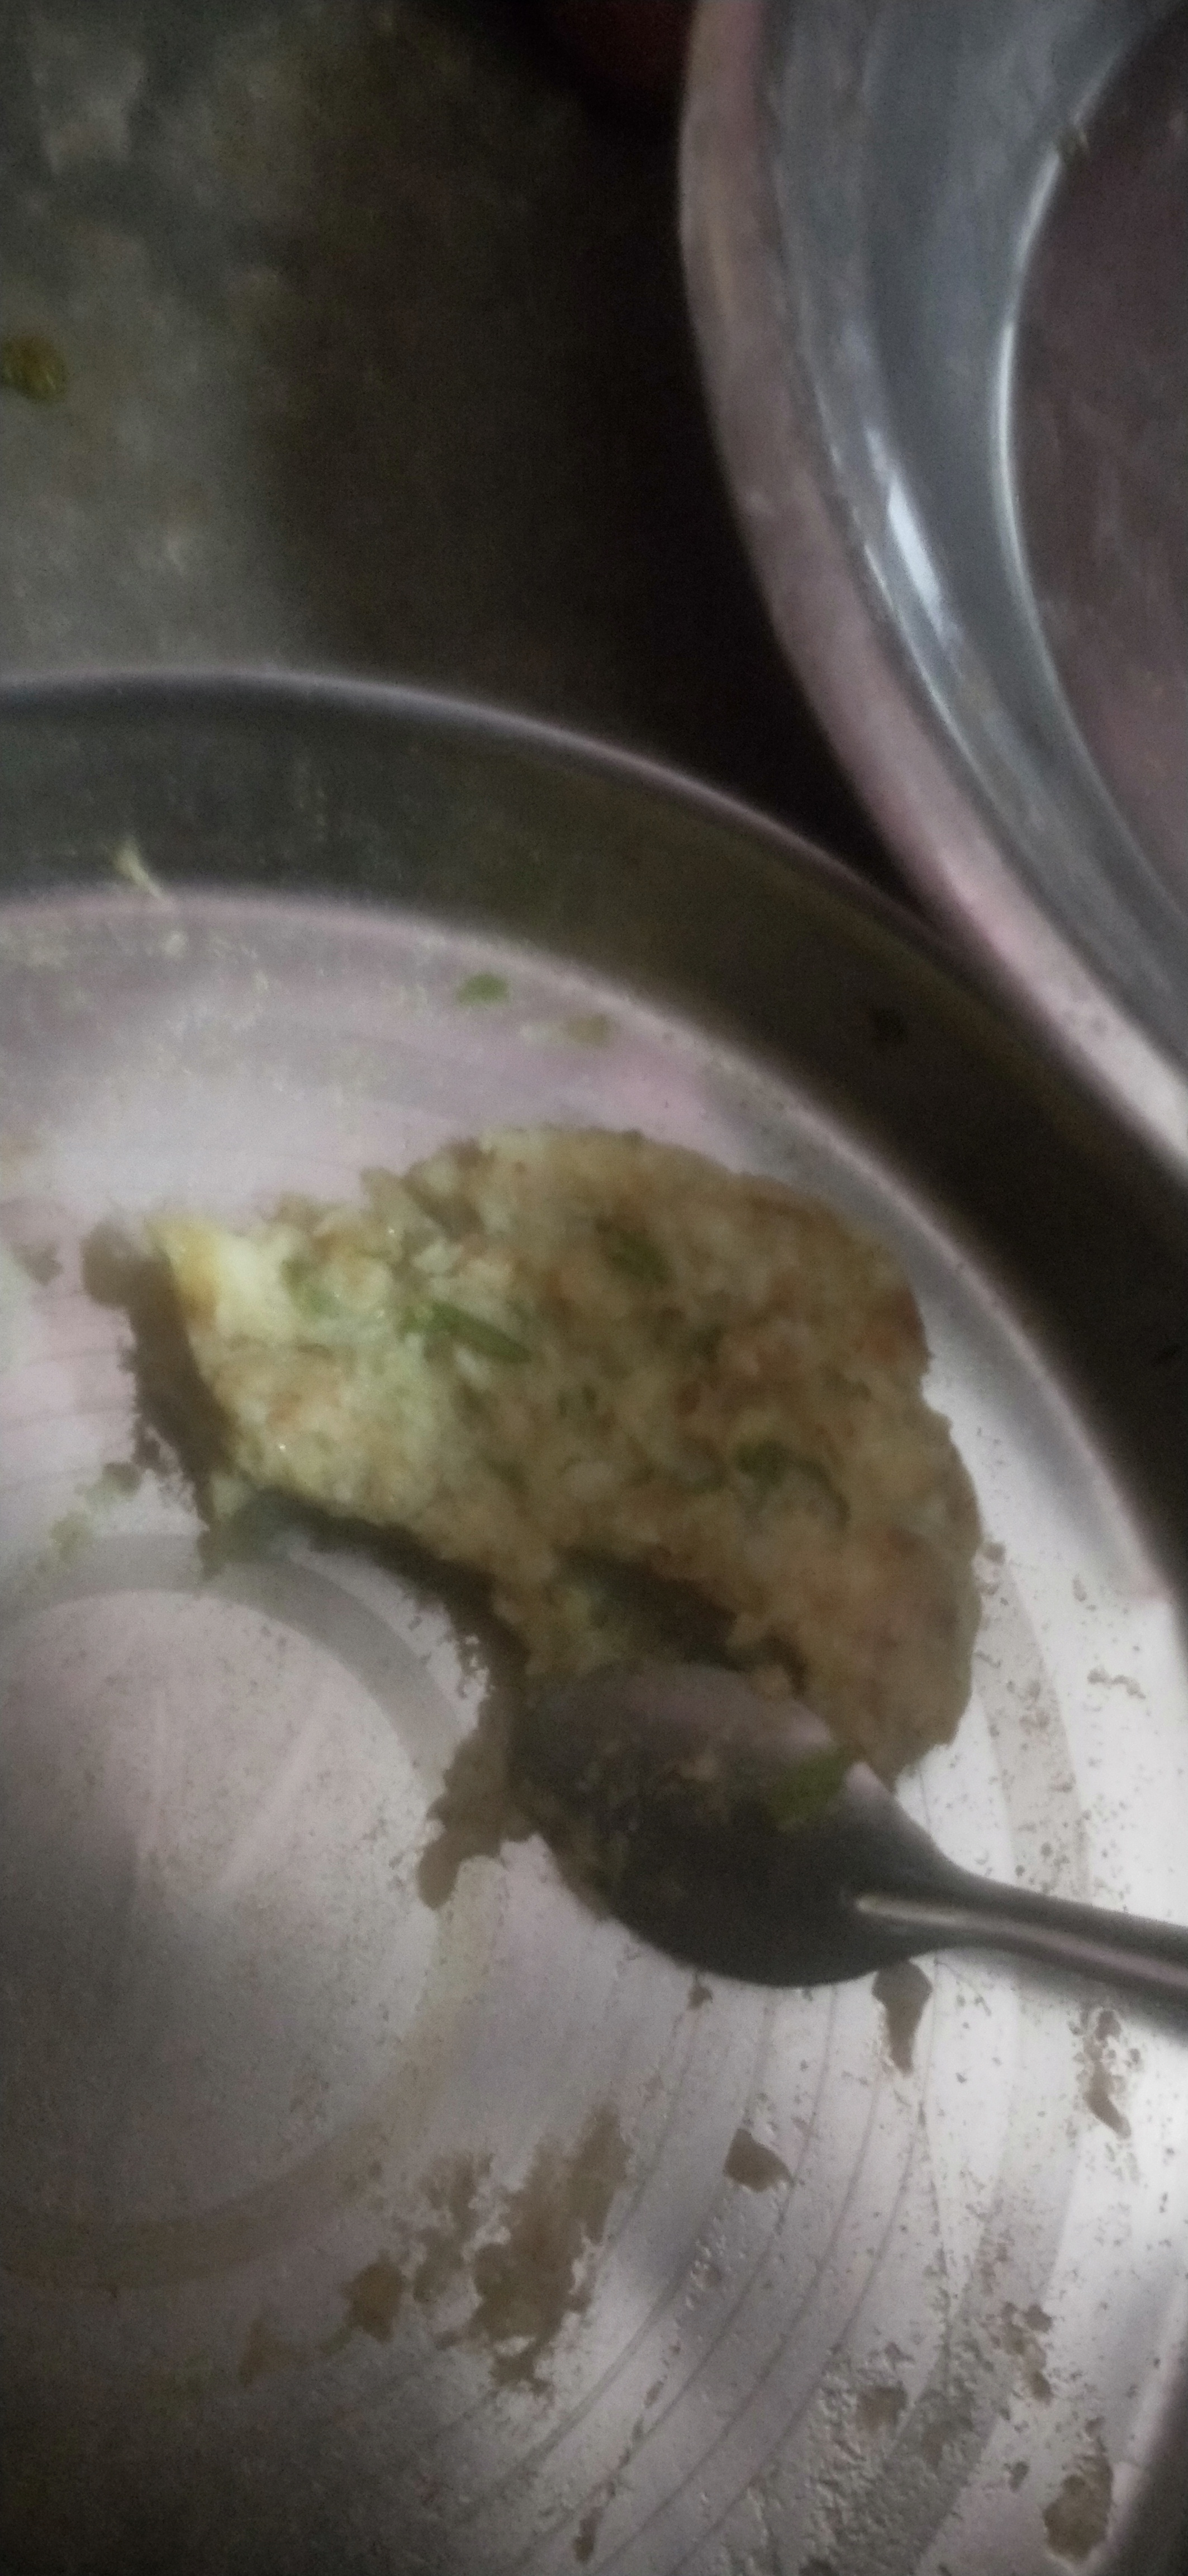food: (145, 1107, 996, 1922)
